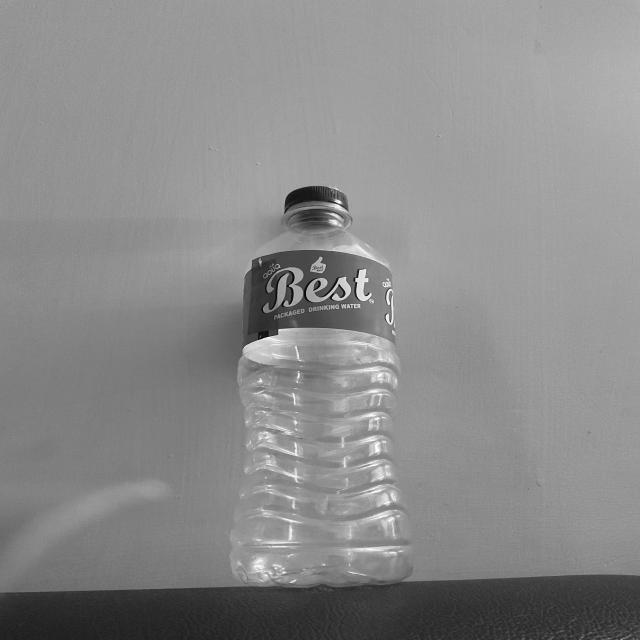Good-cap-Df0S: (280, 186, 357, 224)
